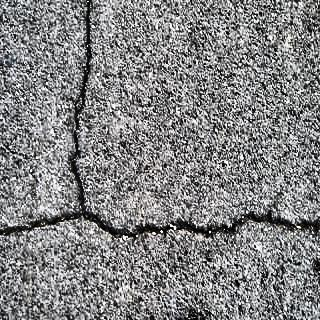crack: (3, 214, 319, 242), (68, 0, 100, 225)
